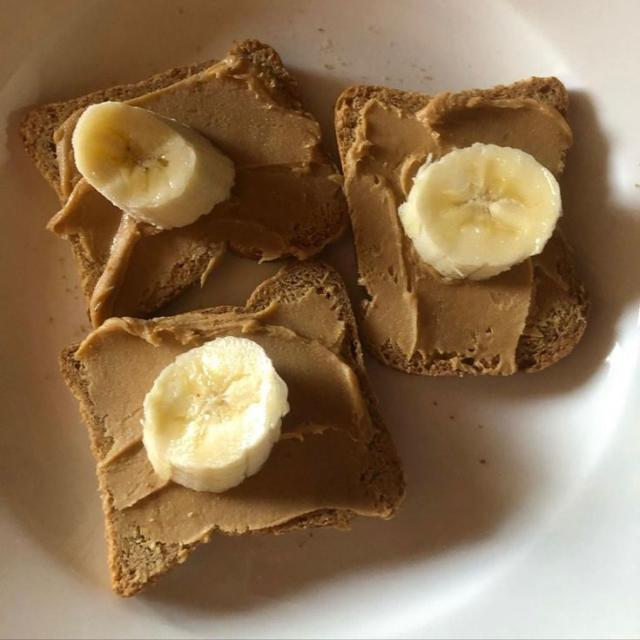sliced_bread: (61, 262, 404, 596), (24, 41, 346, 319), (516, 231, 589, 370), (334, 84, 430, 159), (462, 76, 568, 118), (487, 77, 568, 106)
